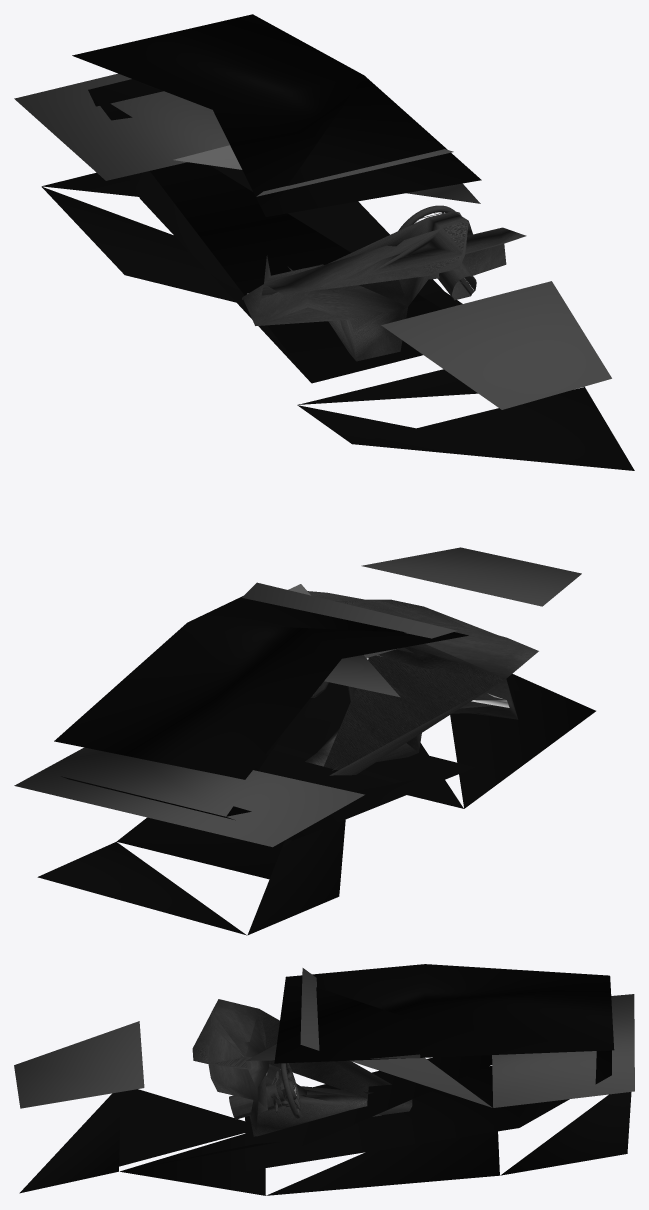
File: car.glb
3 renders of one model, top to bottom at view 1: azimuth 30°, elevation 25°; view 2: azimuth 150°, elevation 25°; view 3: azimuth 270°, elevation 25°, orthographic. The views are drawn at different scales.
Parts seen in each view (by area): view 1: _gltfNode_138, _gltfNode_156, _gltfNode_109, _gltfNode_174, _gltfNode_202, _gltfNode_0, _gltfNode_124, _gltfNode_195; view 2: _gltfNode_138, _gltfNode_109, _gltfNode_0, _gltfNode_174, _gltfNode_156, _gltfNode_202, _gltfNode_124; view 3: _gltfNode_138, _gltfNode_109, _gltfNode_156, _gltfNode_174, _gltfNode_0, _gltfNode_202, _gltfNode_195, _gltfNode_194, _gltfNode_124.
Boxes of the visible parts, bbox=[...] form: _gltfNode_138: bbox=[72, 14, 481, 216]; _gltfNode_156: bbox=[88, 79, 457, 383]; _gltfNode_109: bbox=[41, 172, 634, 470]; _gltfNode_174: bbox=[242, 211, 526, 361]; _gltfNode_202: bbox=[381, 281, 611, 409]; _gltfNode_0: bbox=[14, 73, 453, 196]; _gltfNode_124: bbox=[173, 145, 480, 203]; _gltfNode_195: bbox=[439, 262, 476, 300]; _gltfNode_138: bbox=[54, 596, 468, 779]; _gltfNode_109: bbox=[37, 674, 595, 935]; _gltfNode_0: bbox=[14, 582, 457, 847]; _gltfNode_174: bbox=[305, 591, 538, 775]; _gltfNode_156: bbox=[61, 721, 475, 840]; _gltfNode_202: bbox=[361, 547, 581, 606]; _gltfNode_124: bbox=[288, 584, 400, 697]; _gltfNode_138: bbox=[274, 964, 614, 1063]; _gltfNode_109: bbox=[19, 1089, 631, 1195]; _gltfNode_156: bbox=[245, 1050, 611, 1171]; _gltfNode_174: bbox=[192, 999, 412, 1136]; _gltfNode_0: bbox=[300, 968, 634, 1107]; _gltfNode_202: bbox=[14, 1021, 144, 1108]; _gltfNode_195: bbox=[229, 1077, 300, 1119]; _gltfNode_194: bbox=[232, 1063, 300, 1118]; _gltfNode_124: bbox=[246, 1044, 420, 1060].
Size of the model in its own units: 2.2 by 1.76 by 5.84.
5 materials, 1 textured.
